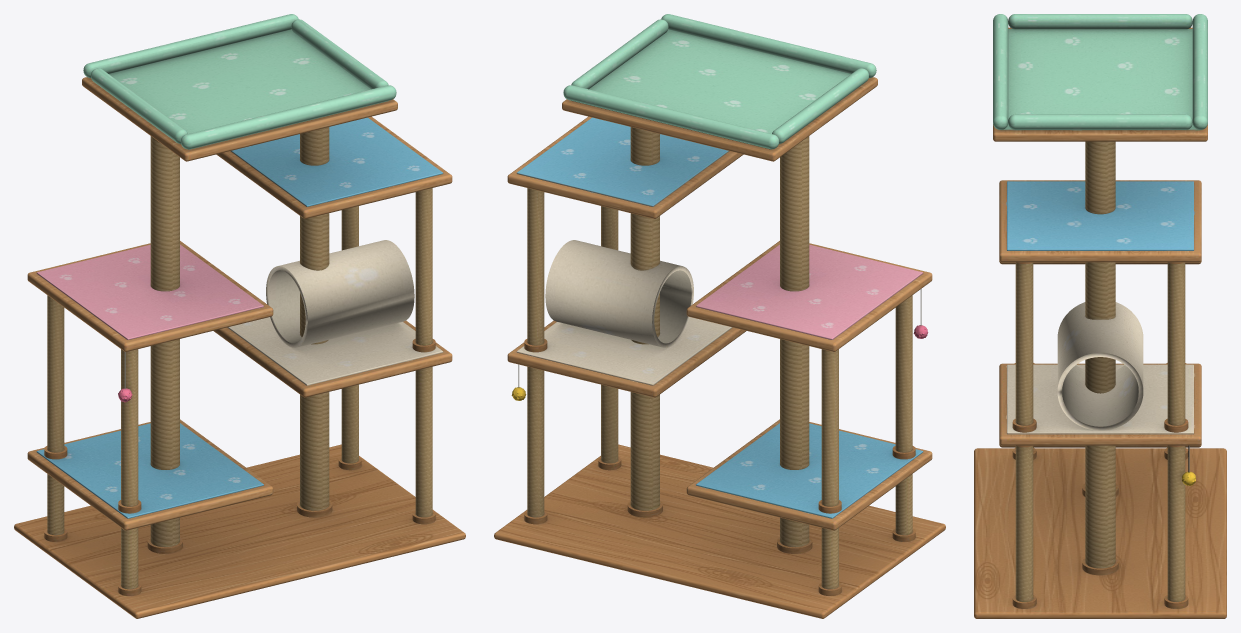
Rendered from tower_tall.glb.
3 renders of one model, left to right at view 1: azimuth 30°, elevation 25°; view 2: azimuth 150°, elevation 25°; view 3: azimuth 270°, elevation 25°, orthographic. The views are drawn at different scales.
Visible parts, largest first — view 1: tower_tall; view 2: tower_tall; view 3: tower_tall.
Boxes of the visible parts, x1,y1,x2,y2 form: tower_tall: (14,14,465,618); tower_tall: (494,14,945,618); tower_tall: (974,14,1226,618).
Bounding box in the file's own units: 1.55 × 2.06 × 1.
1 material, 1 textured.
